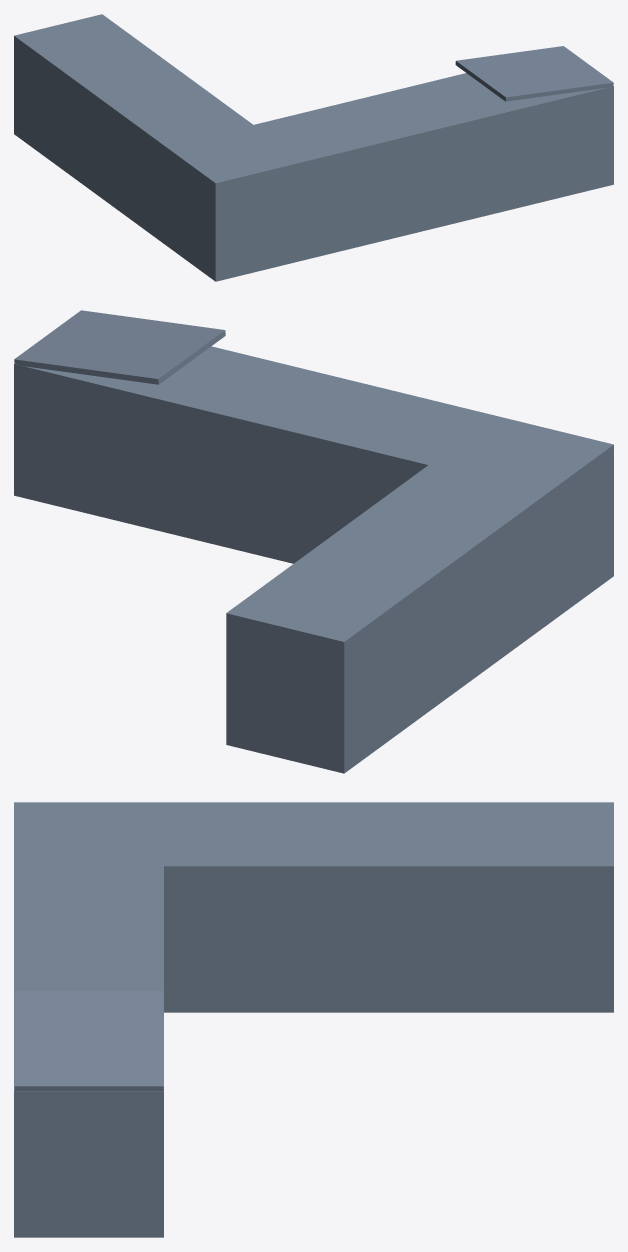
The model's file is reception.fbx.
3 renders of one model, top to bottom at view 1: azimuth 30°, elevation 25°; view 2: azimuth 150°, elevation 25°; view 3: azimuth 270°, elevation 25°, orthographic. The views are drawn at different scales.
Parts seen in each view (by area): view 1: reception; view 2: reception; view 3: reception.
Part boxes in pixels (x1,y1,x2,y2): reception: (14,14,613,281); reception: (14,310,613,773); reception: (14,802,613,1237).
Bounding box in the file's own units: 451 × 123 × 396.
